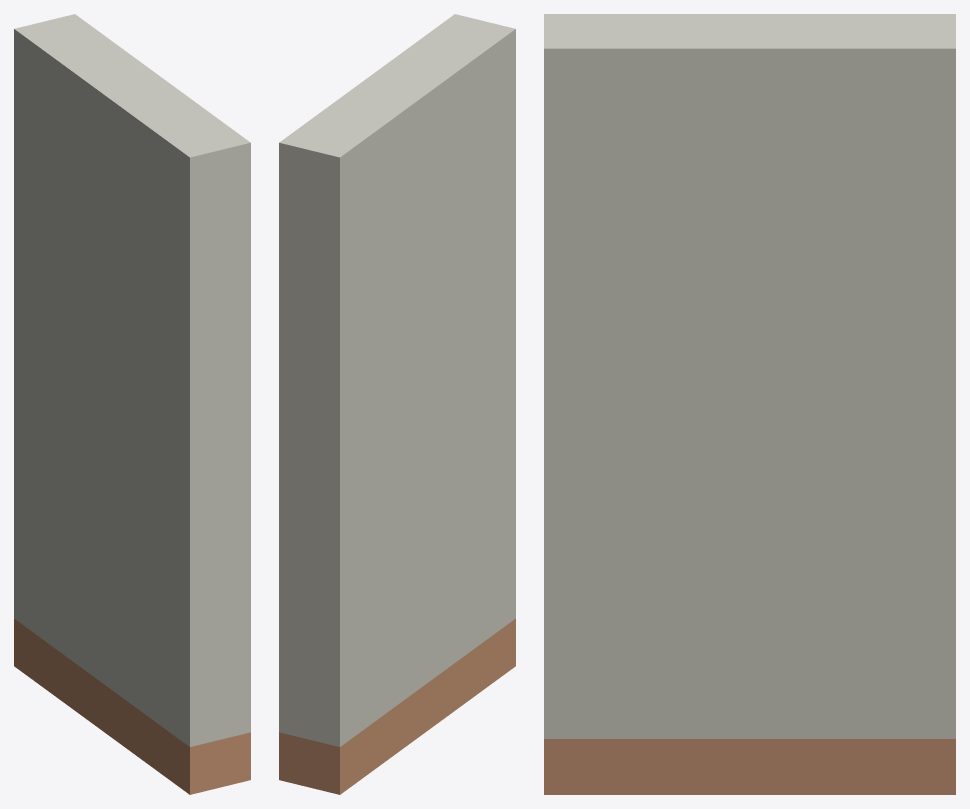
Rendered from wall_l.fbx.
3 views of the same model, side by side, from view 1: azimuth 30°, elevation 25°; view 2: azimuth 150°, elevation 25°; view 3: azimuth 270°, elevation 25° (orthographic). The views are drawn at different scales.
Parts seen in each view (by area): view 1: wall_I; view 2: wall_I; view 3: wall_I.
Boxes of the visible parts, x1=… form: wall_I: x1=14, y1=14, x2=250, y2=794; wall_I: x1=279, y1=14, x2=515, y2=794; wall_I: x1=544, y1=14, x2=955, y2=794.
Size of the model in its own units: 20 by 200 by 100.
